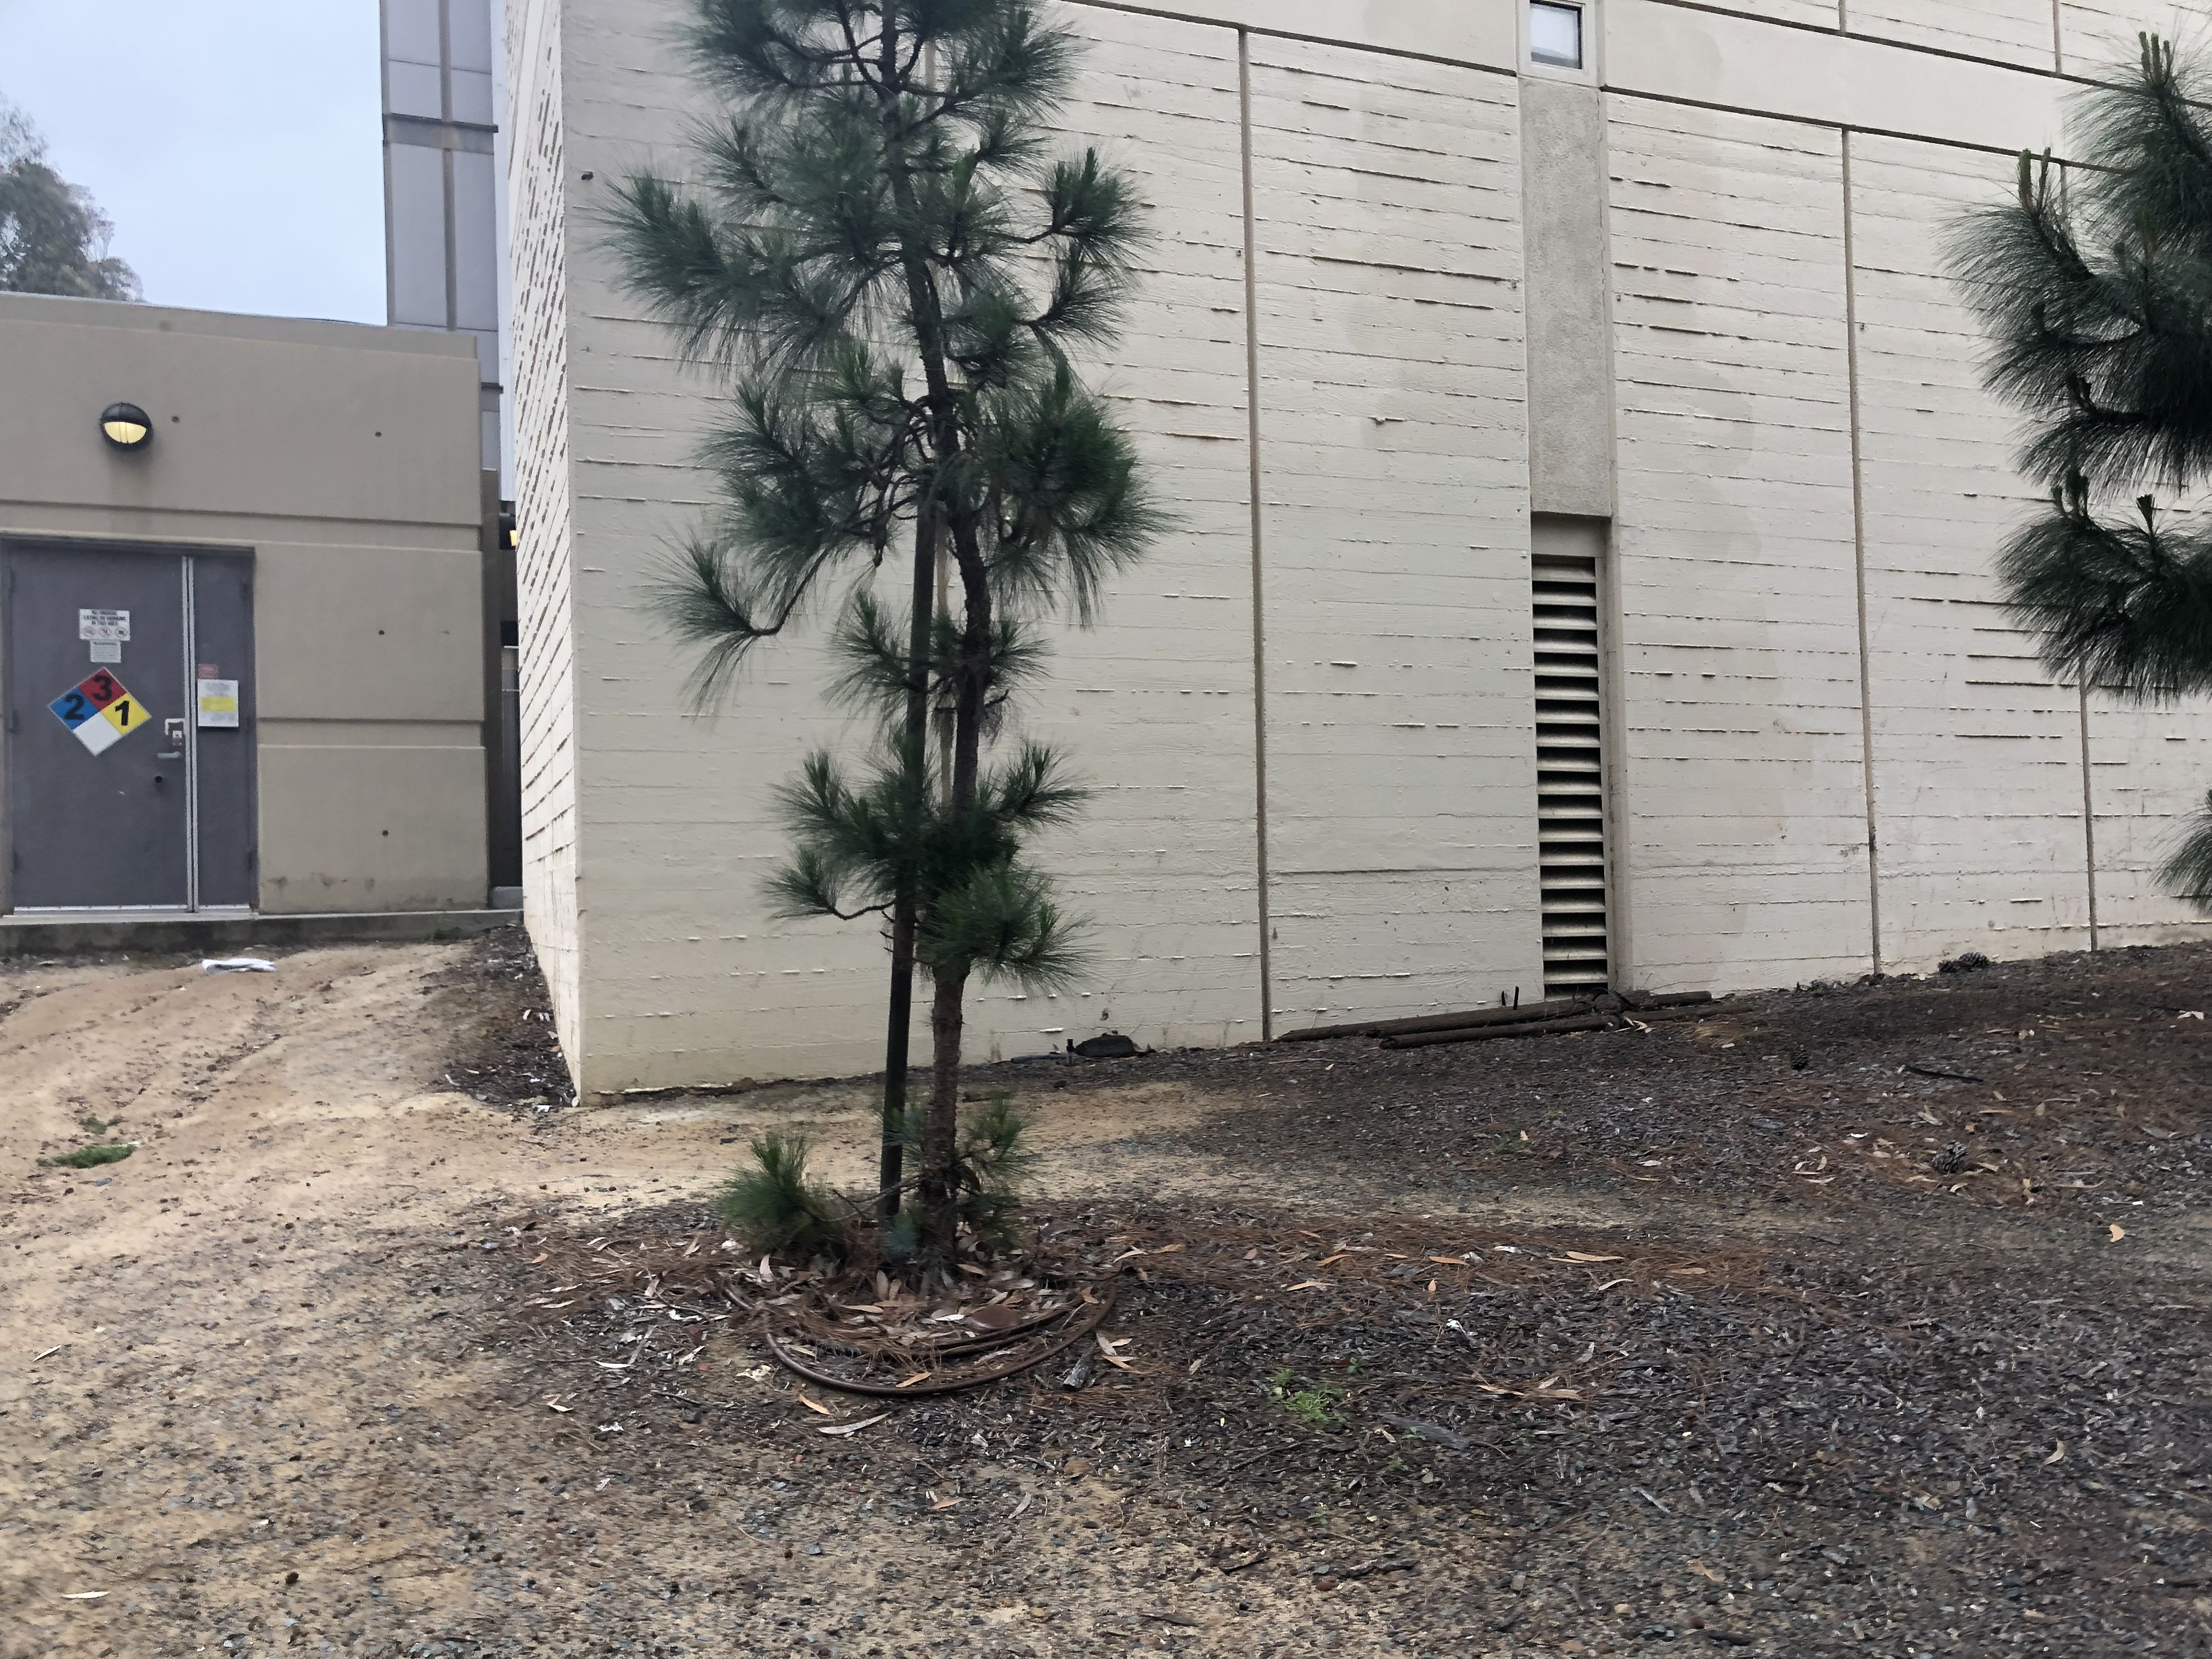Obstacle: (458, 9, 2186, 1122), (683, 35, 1130, 1392), (12, 289, 529, 962)
